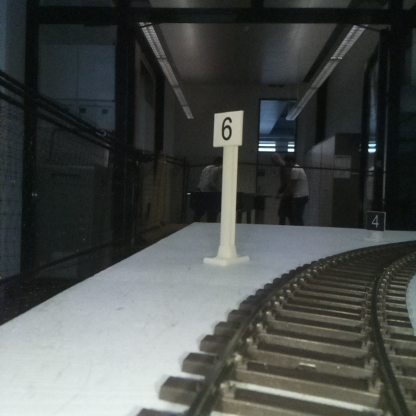black-stop-4: (367, 210, 385, 242)
white-info-6: (212, 111, 243, 264)
